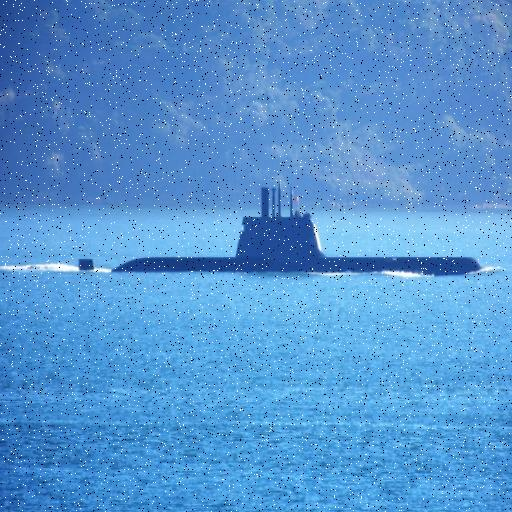submarine: (74, 178, 499, 282)
